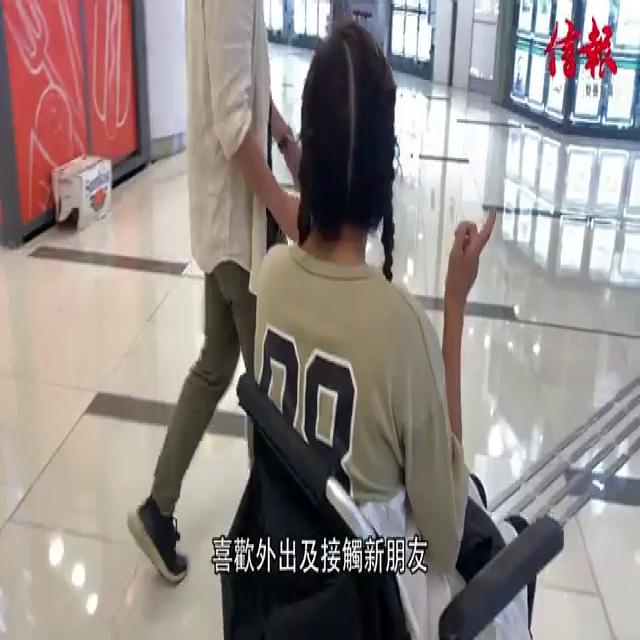wheelchairs: (198, 357, 566, 640)
